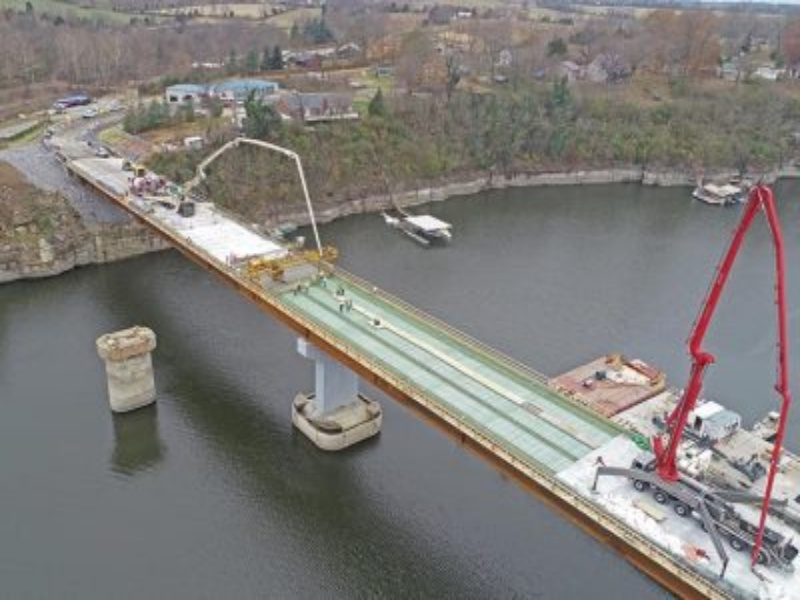pump truck: (589, 183, 793, 576), (143, 134, 328, 277)
